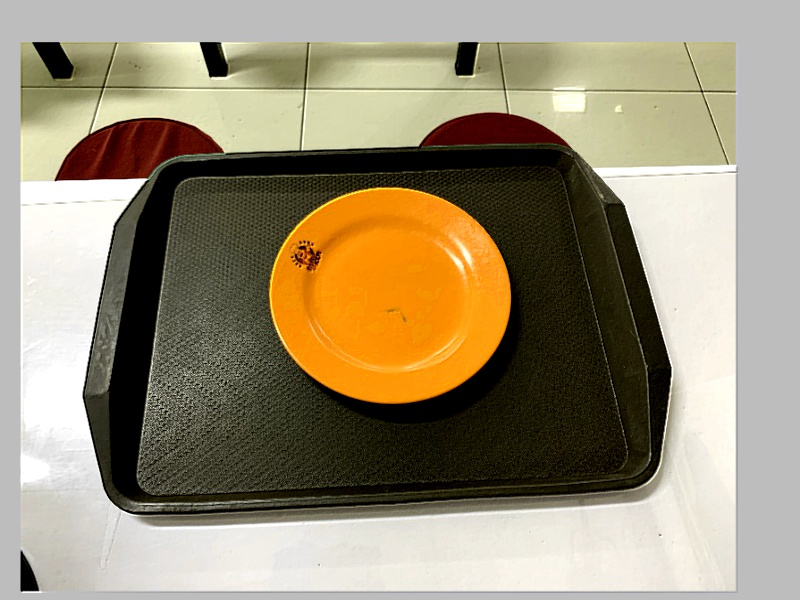dish10: (265, 184, 519, 411)
